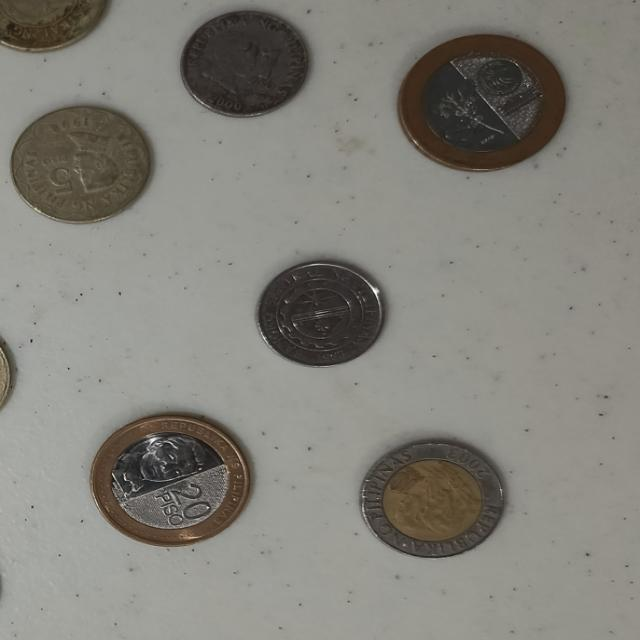10_peso: (360, 442, 502, 558)
1_peso: (181, 11, 306, 117), (258, 263, 382, 365)
20_peso: (399, 35, 565, 170), (92, 415, 248, 544)
5_peso: (12, 107, 149, 222)
